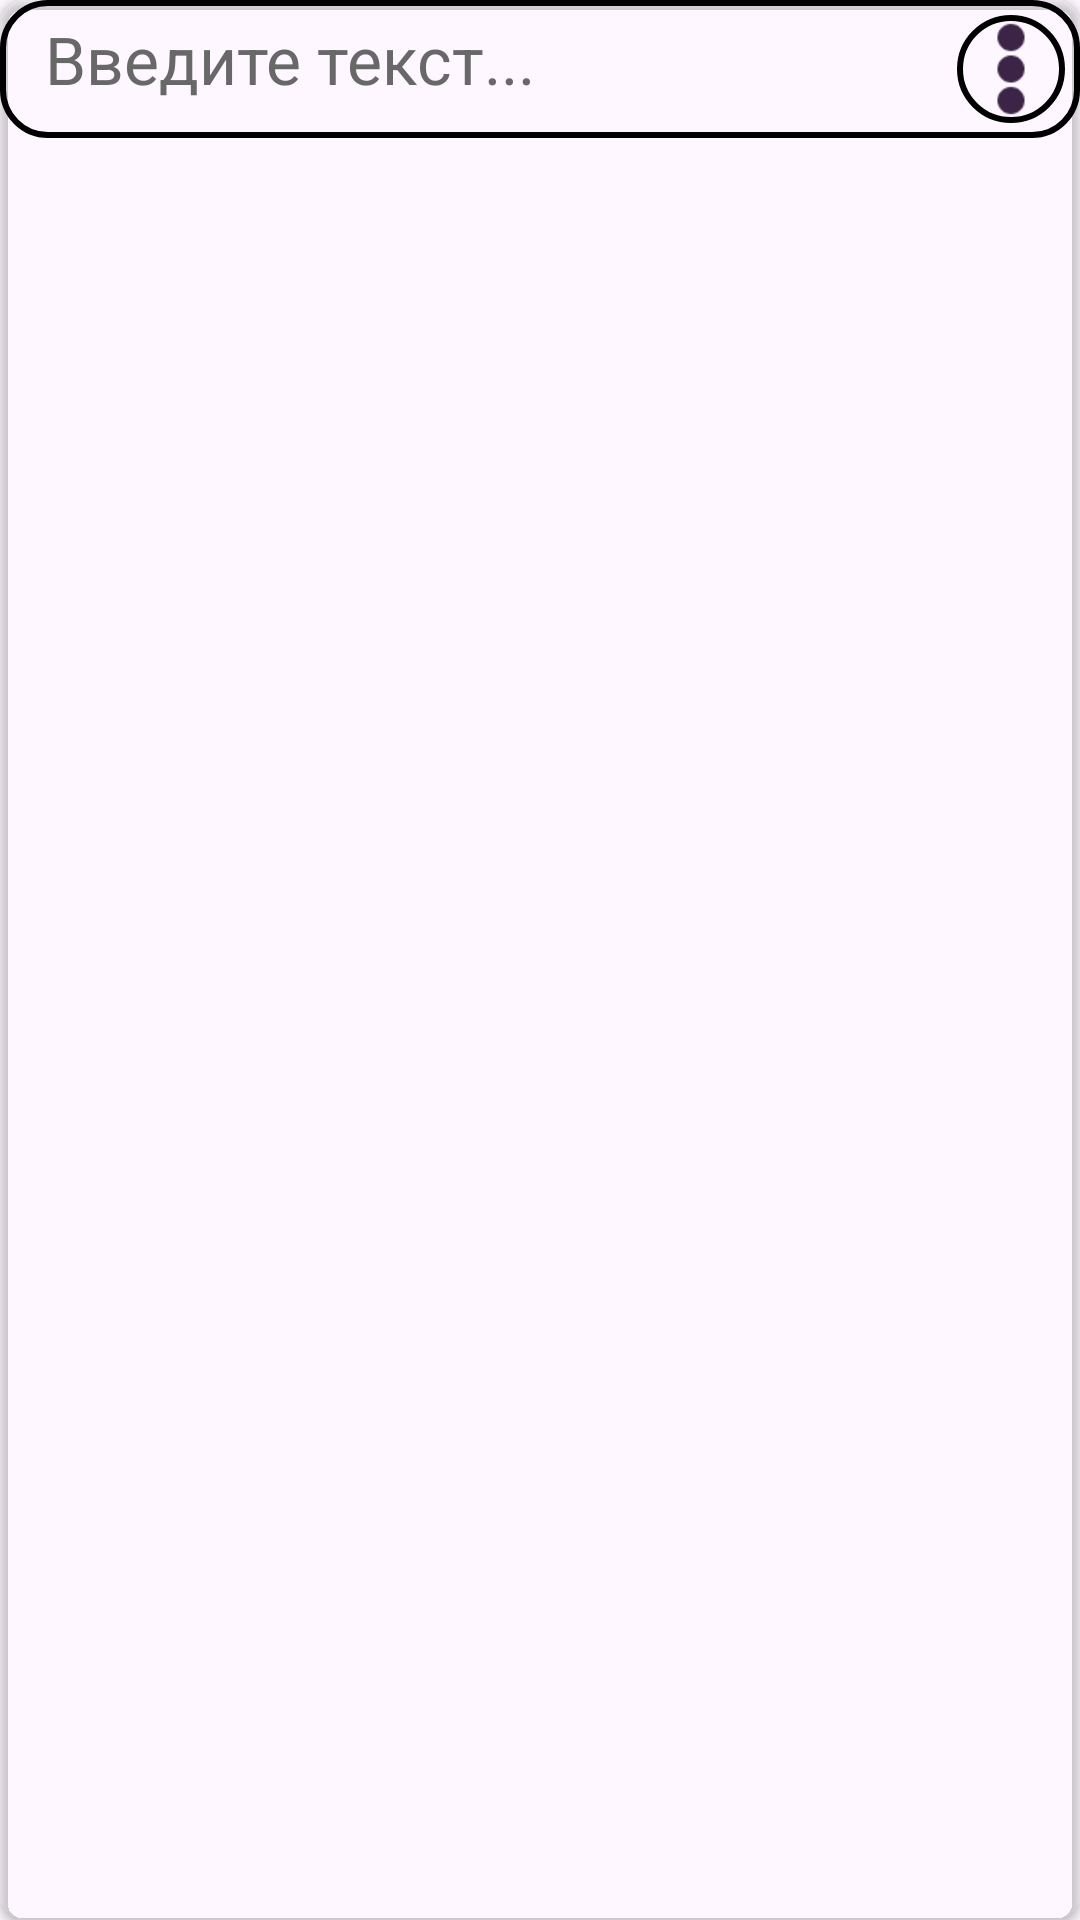

Icons on this 1080*1920 Android screen, each with its box as (x1, y1, x2, y2):
menu: (957, 15, 1065, 123)
